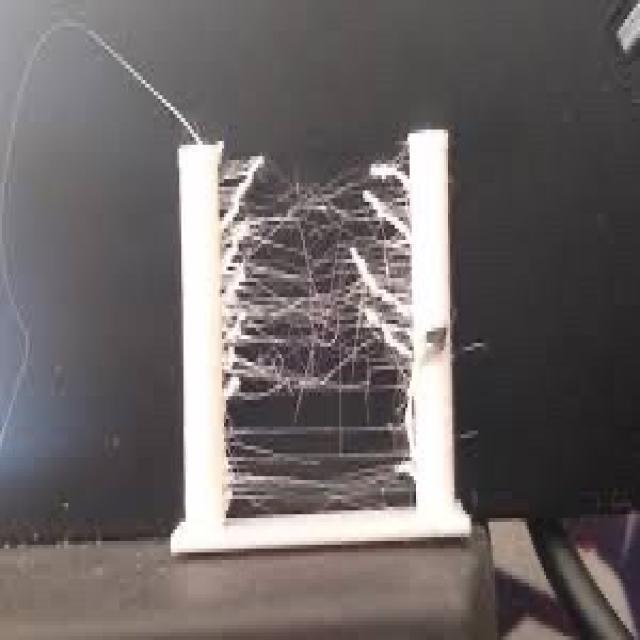stringing: (222, 143, 415, 502)
